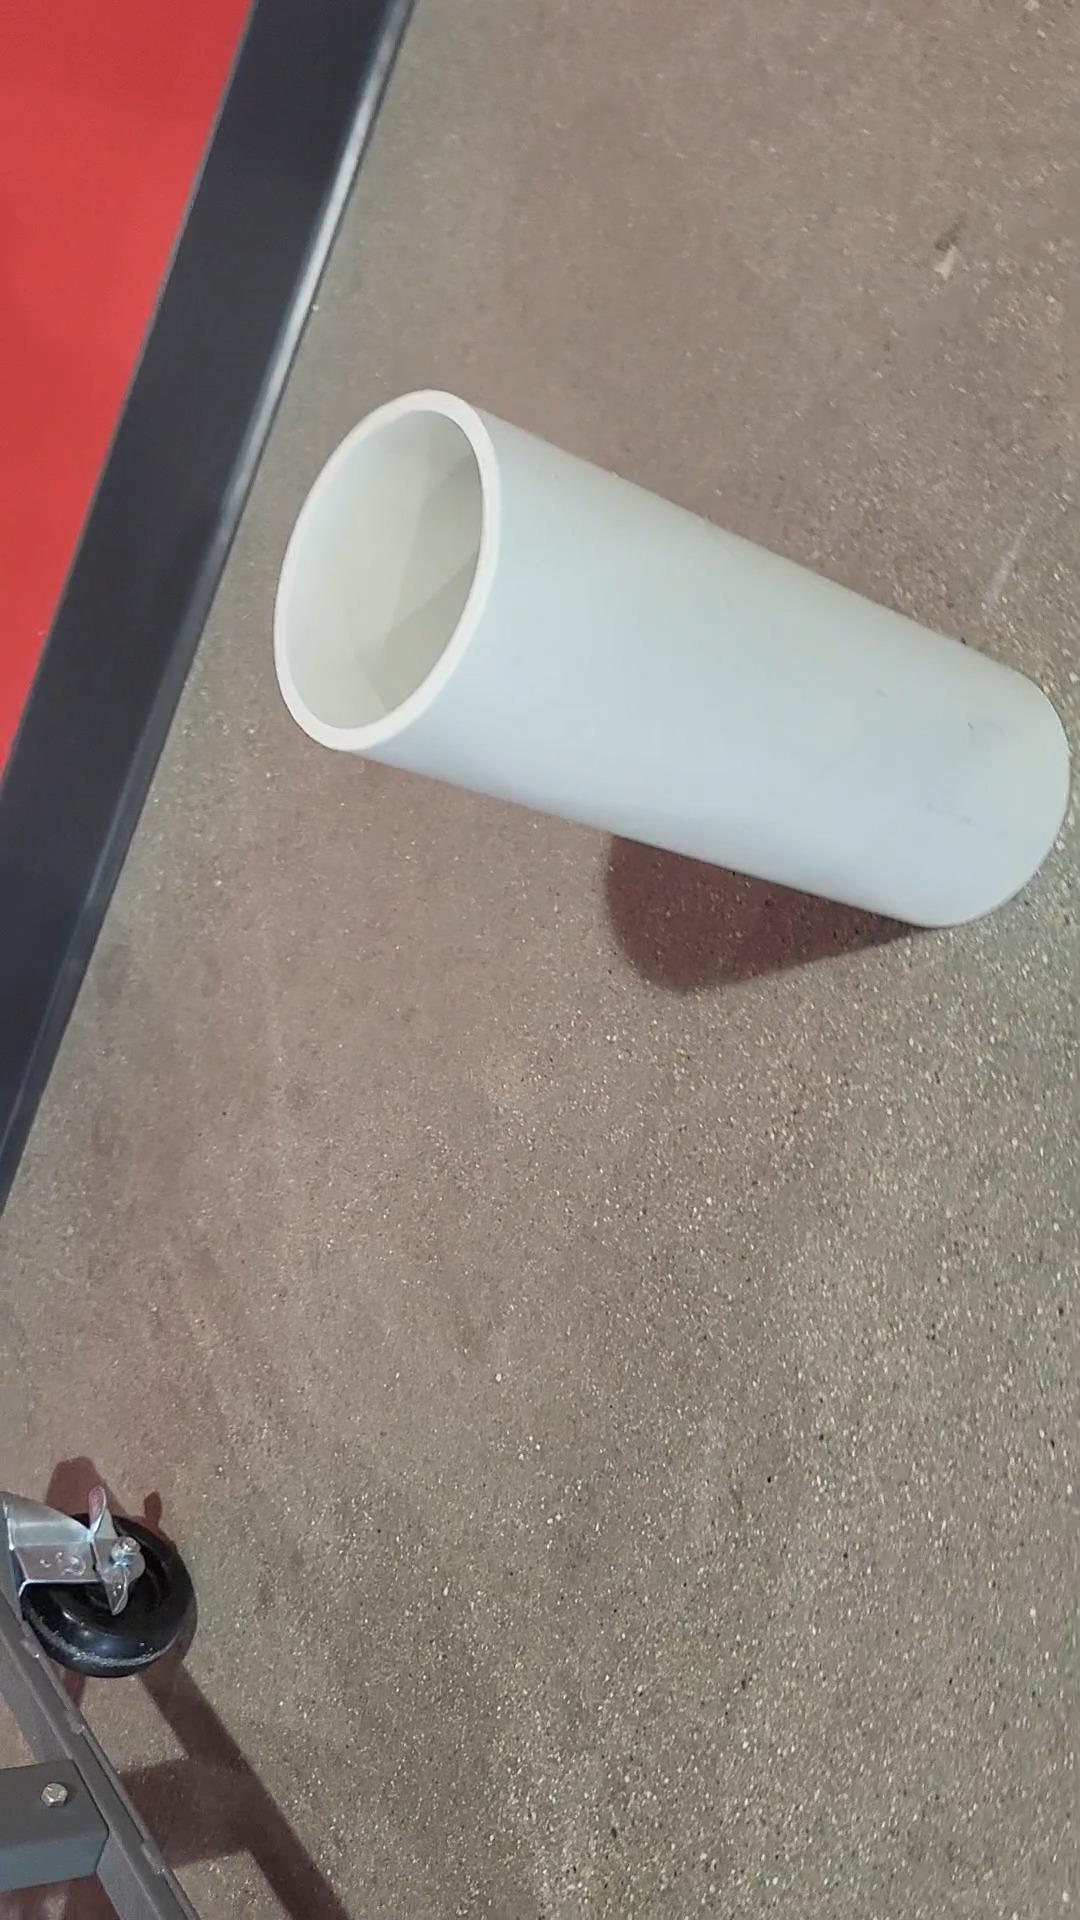coral: (276, 393, 1065, 920)
